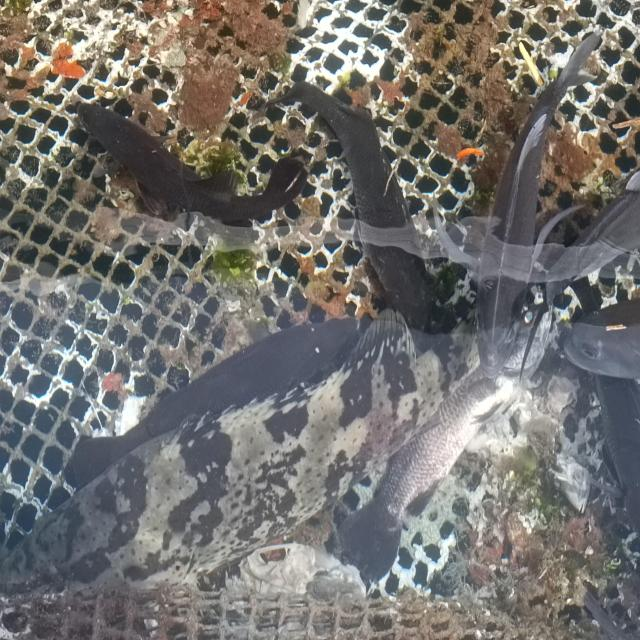ikan: (429, 31, 638, 384), (257, 79, 477, 334), (325, 365, 522, 595), (75, 98, 308, 228), (562, 296, 639, 381)
